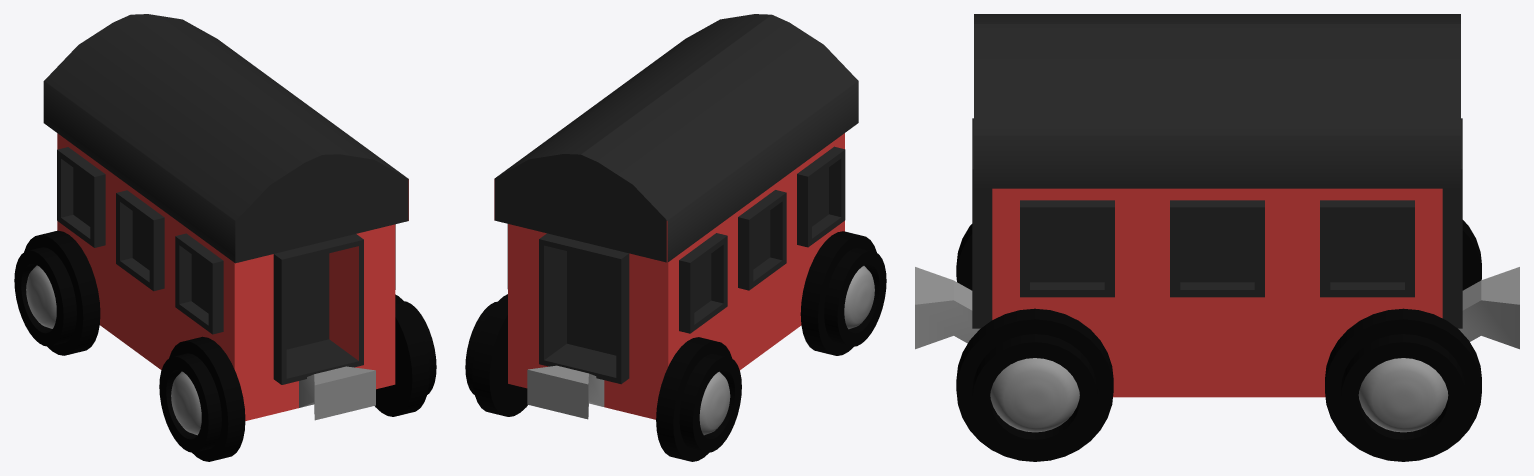
Rendered from PassangerWagon.fbx.
3 renders of one model, left to right at view 1: azimuth 30°, elevation 25°; view 2: azimuth 150°, elevation 25°; view 3: azimuth 270°, elevation 25°, orthographic. The views are drawn at different scales.
Parts seen in each view (by area): view 1: Cube.006, Cylinder.020, Cylinder.019, Cylinder.018; view 2: Cube.006, Cylinder.020, Cylinder.019, Cylinder.017; view 3: Cube.006, Cylinder.018, Cylinder.017, Cylinder.019, Cylinder.020.
Boxes of the visible parts, bbox=[...] form: Cube.006: bbox=[43, 14, 408, 420]; Cylinder.020: bbox=[159, 336, 245, 461]; Cylinder.019: bbox=[14, 230, 100, 355]; Cylinder.018: bbox=[375, 294, 436, 416]; Cube.006: bbox=[494, 14, 858, 419]; Cylinder.020: bbox=[800, 231, 886, 355]; Cylinder.019: bbox=[656, 337, 741, 461]; Cylinder.017: bbox=[465, 294, 527, 416]; Cube.006: bbox=[915, 14, 1519, 397]; Cylinder.018: bbox=[956, 308, 1113, 461]; Cylinder.017: bbox=[1325, 308, 1481, 461]; Cylinder.019: bbox=[1462, 220, 1481, 290]; Cylinder.020: bbox=[956, 224, 972, 290].
Bounding box in the file's own units: 176 × 212 × 309.
